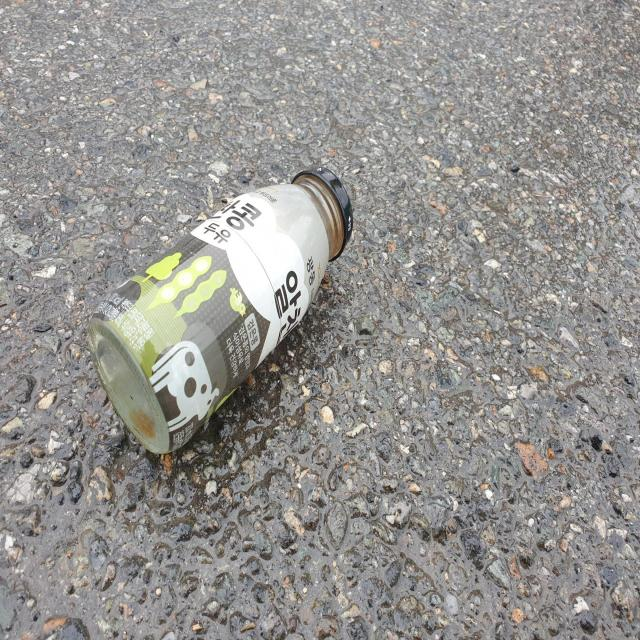glass: (87, 169, 352, 453)
